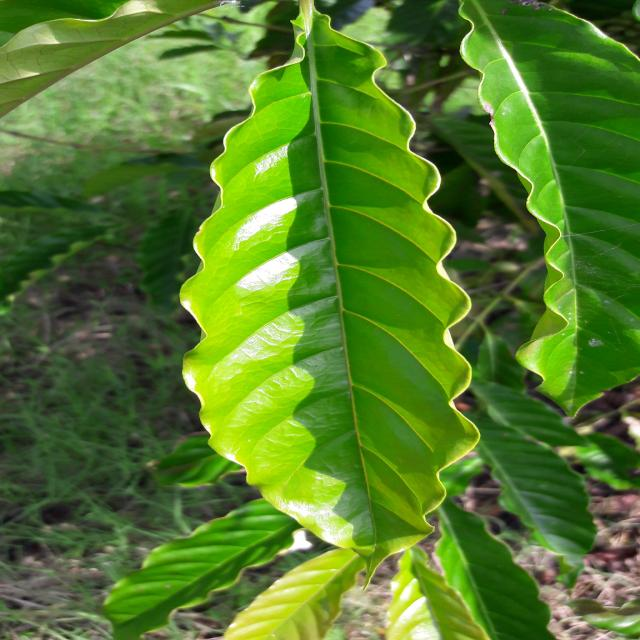Sanas: (180, 10, 486, 562)
